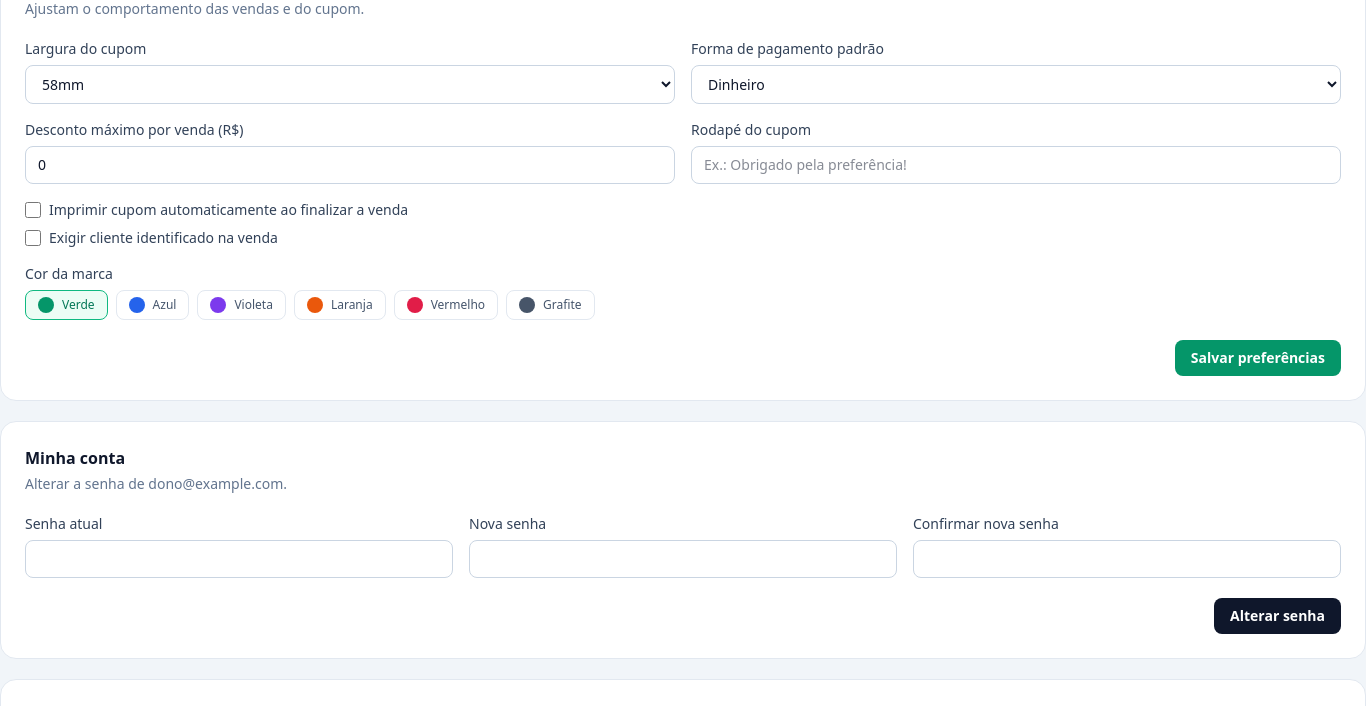
Settings › salva as preferências do PDV
(page scrolled)
Click the button "Salvar preferências" at (1258, 358), box [1175, 340, 1341, 376]
(page scrolled)
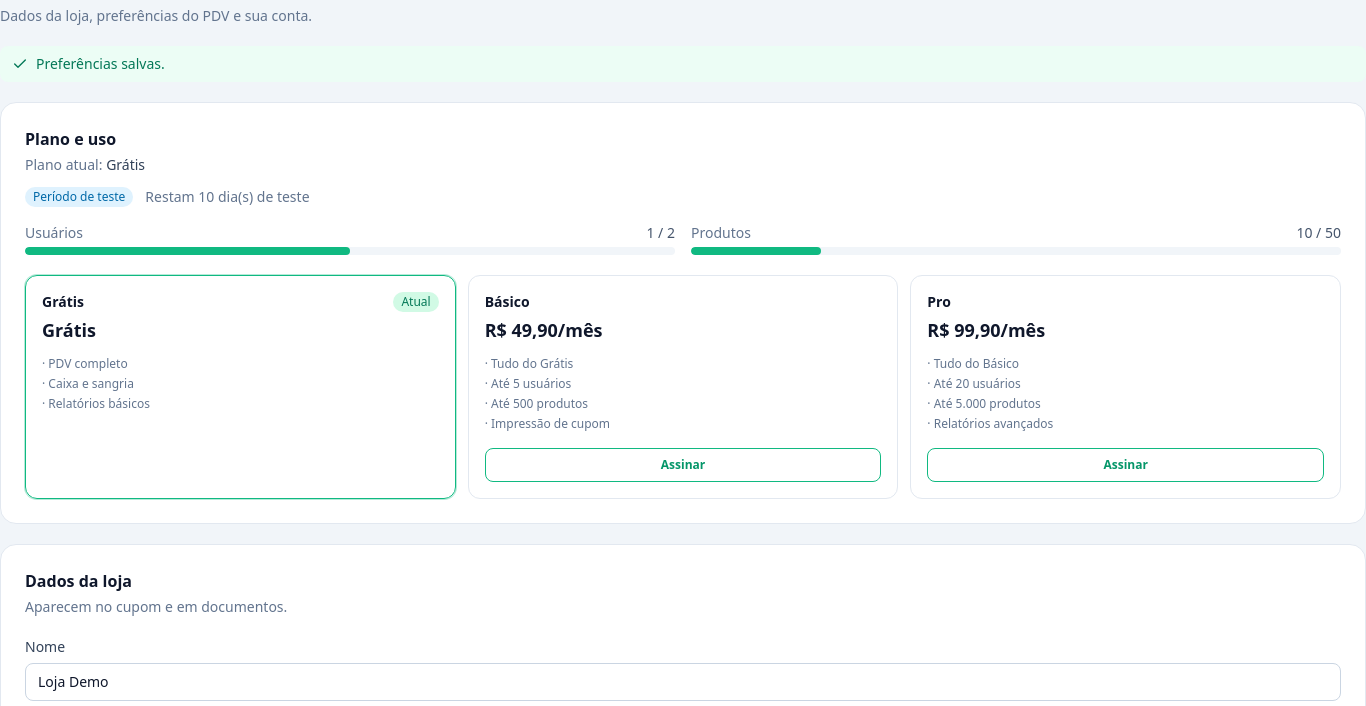
Now the text "Preferências salvas." is shown, box [0, 46, 1365, 82]
